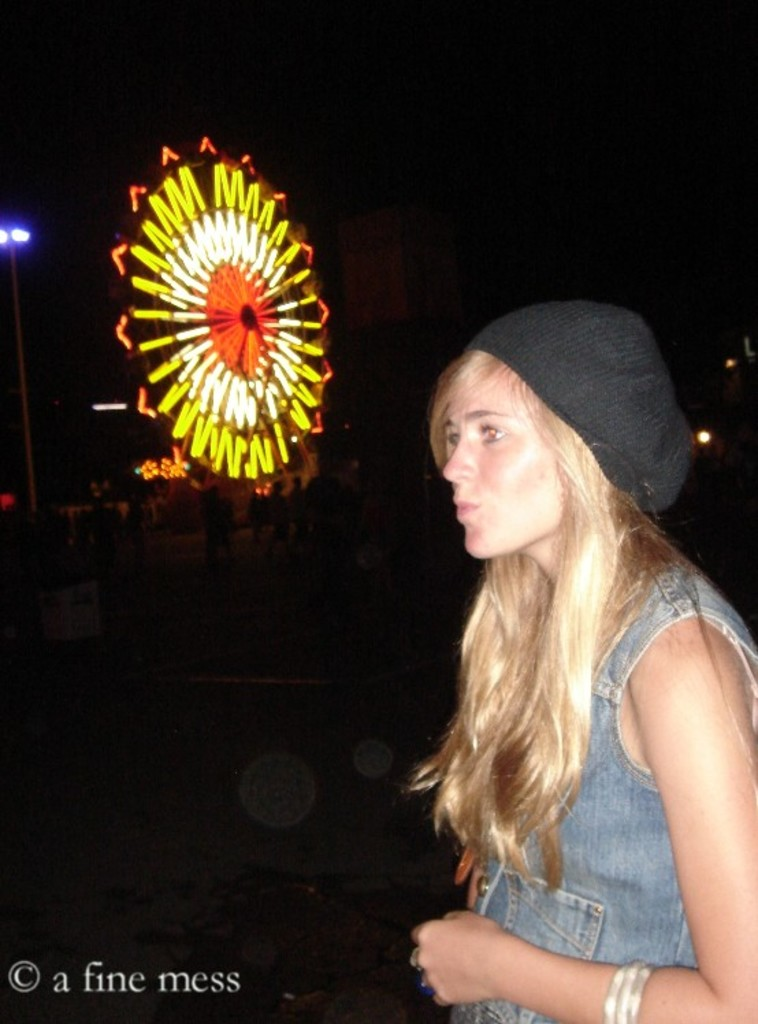Human-face: (439, 349, 566, 556)
